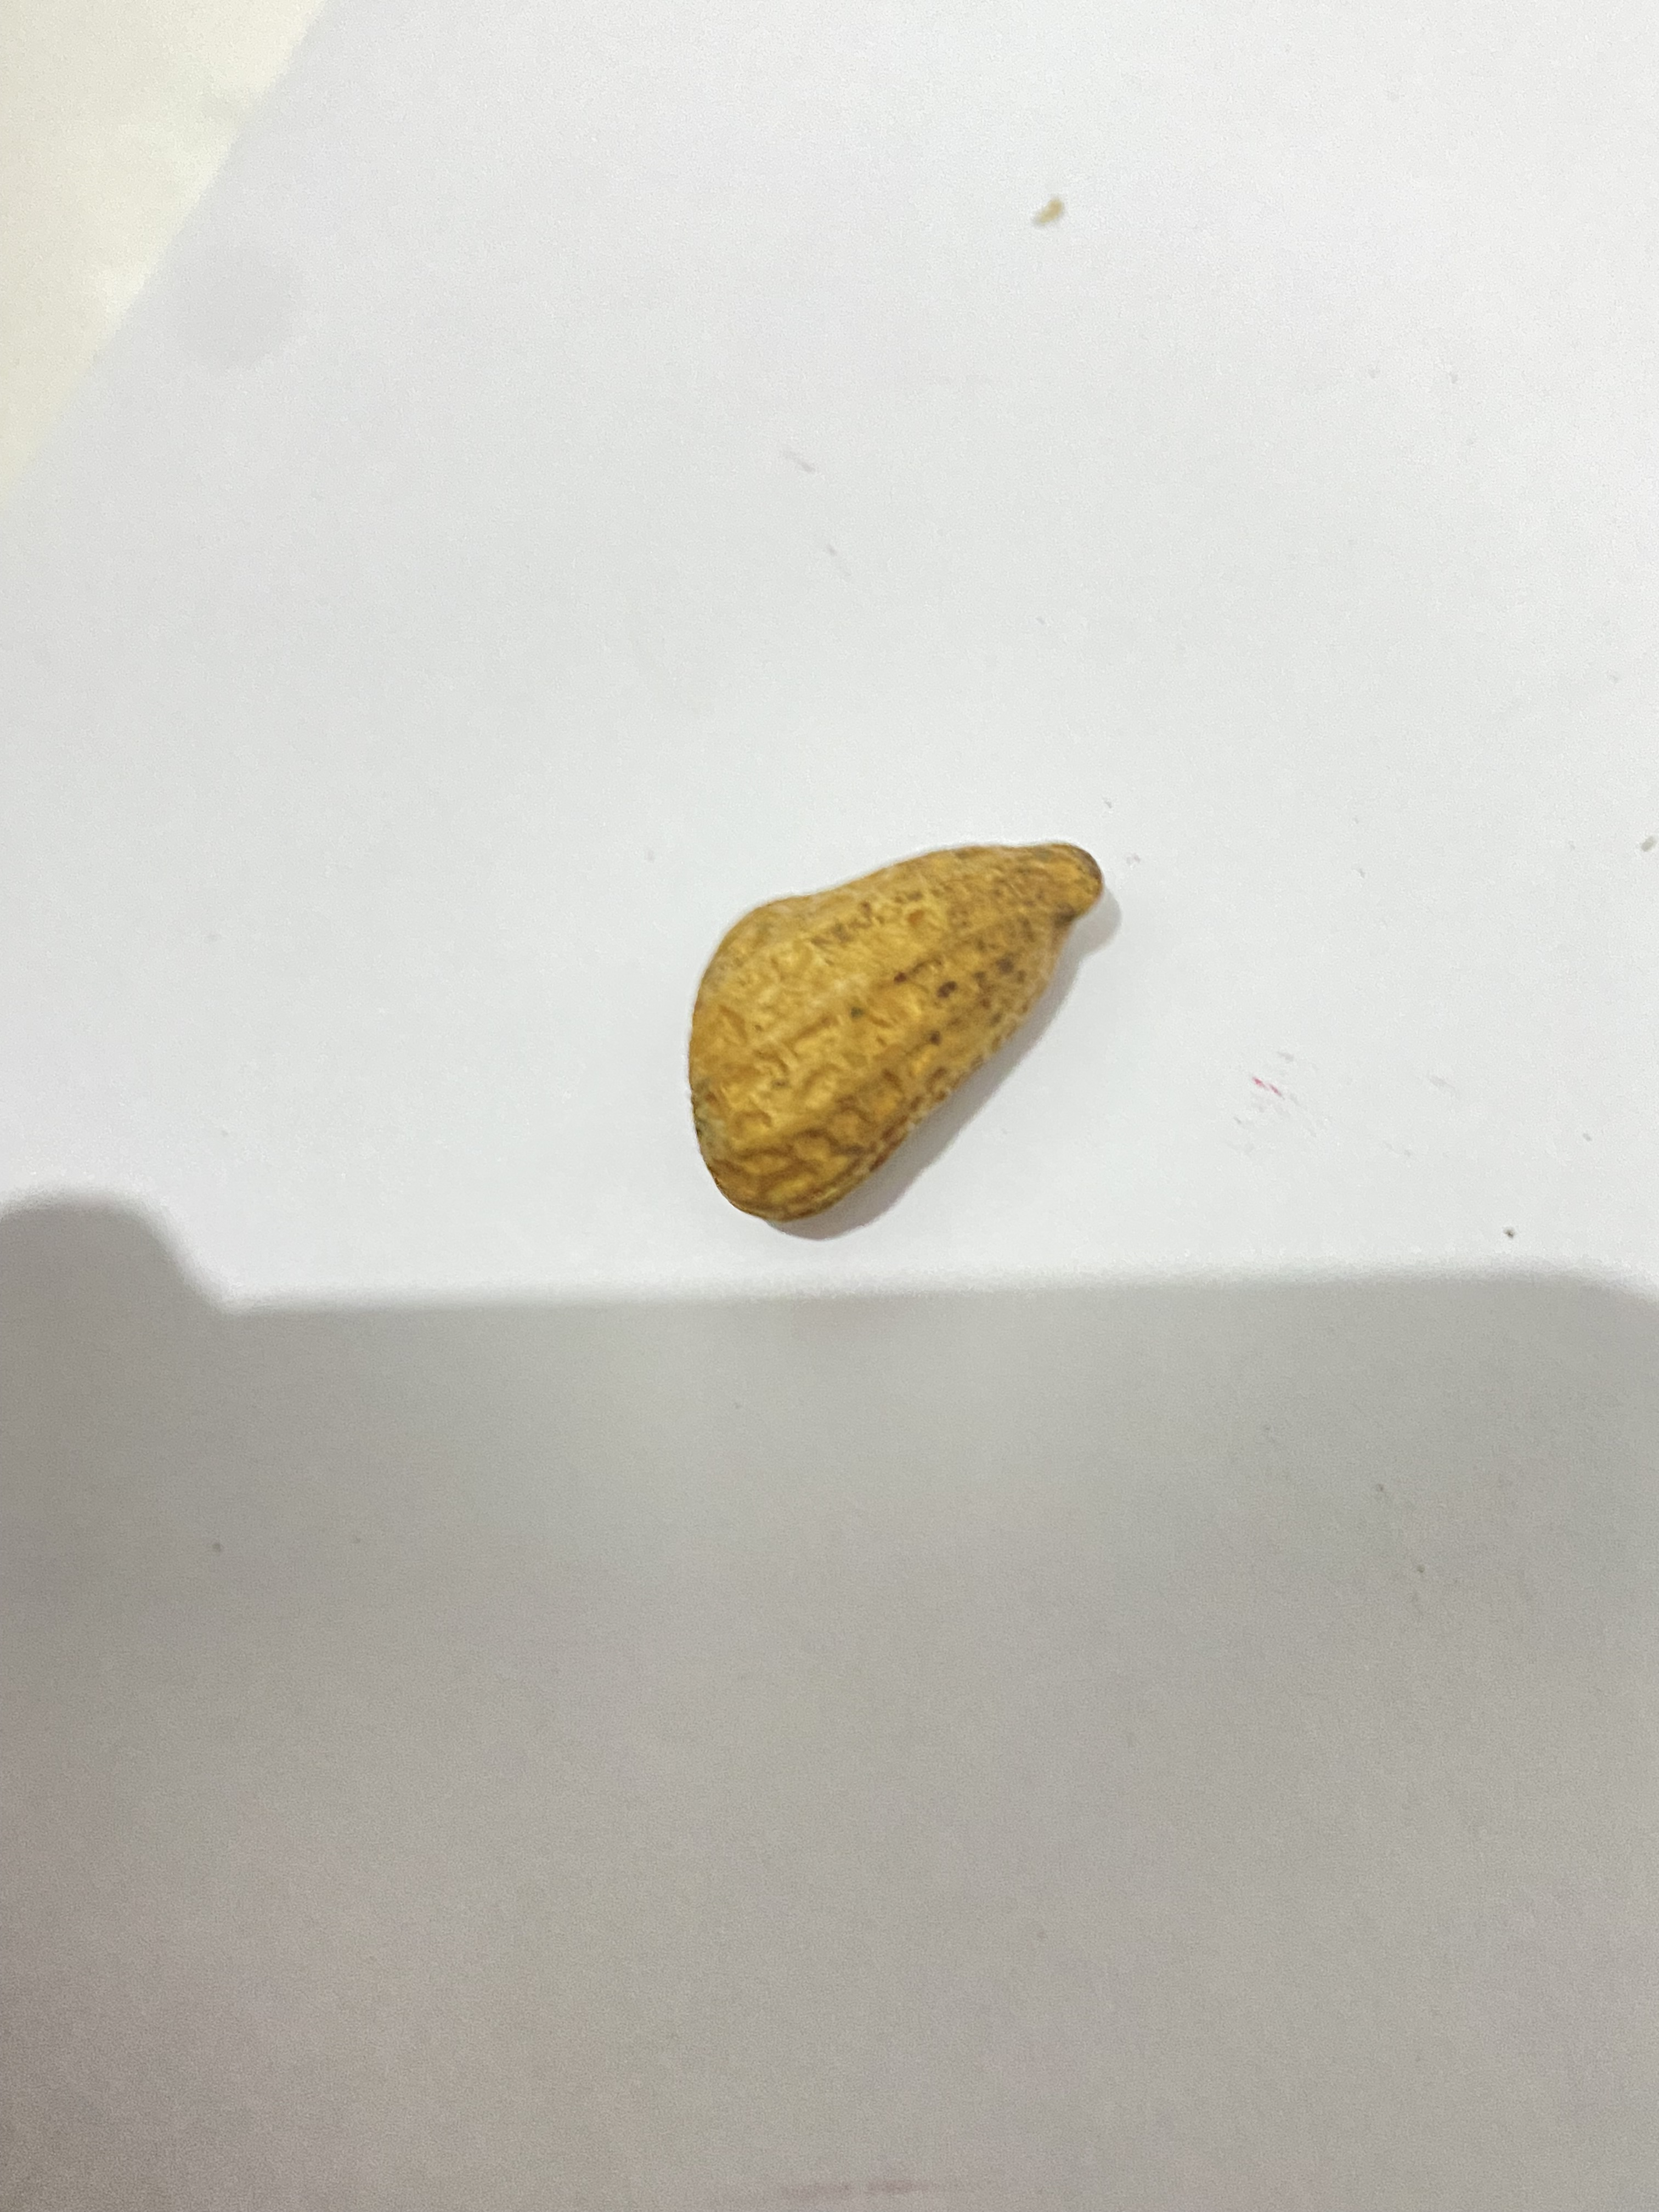kacang1: (622, 780, 1183, 1240)
